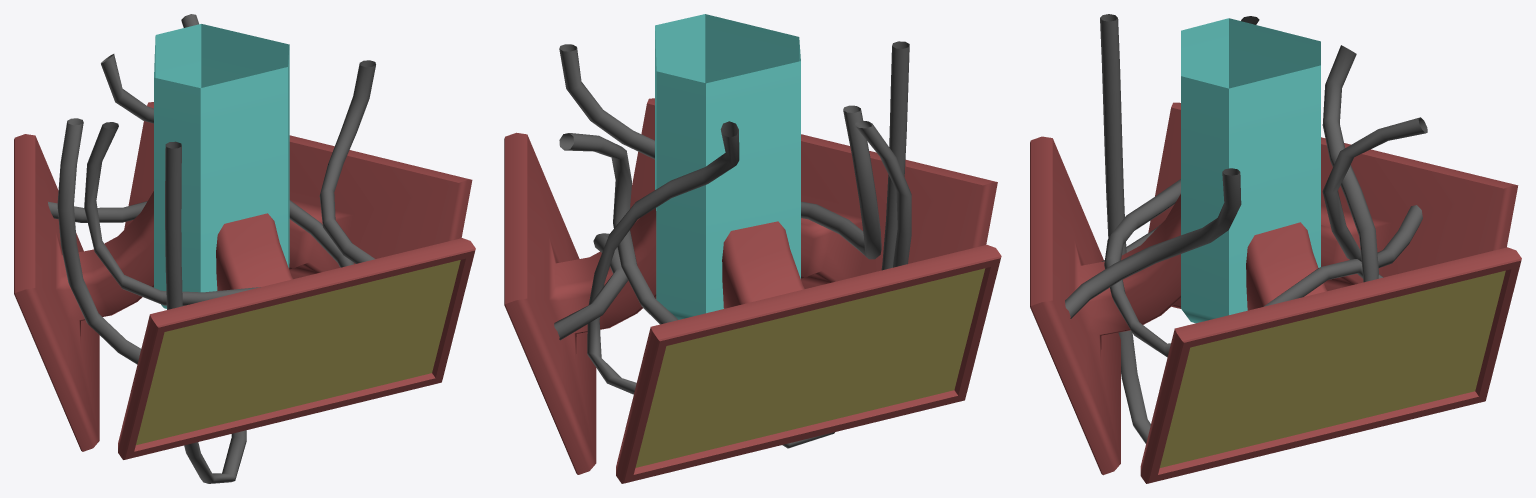
File: tv_set.fbx
3 views of the same model, side by side, from view 1: azimuth 30°, elevation 25°; view 2: azimuth 150°, elevation 25°; view 3: azimuth 270°, elevation 25° (orthographic). The views are drawn at different scales.
Visible parts, largest first — view 1: polySurface5; view 2: polySurface5; view 3: polySurface5.
Part boxes in pixels (x1,y1,x2,y2): polySurface5: (14,14,475,483); polySurface5: (504,14,1001,483); polySurface5: (1030,14,1521,483).
Bounding box in the file's own units: 9.02 × 7.35 × 7.85.
